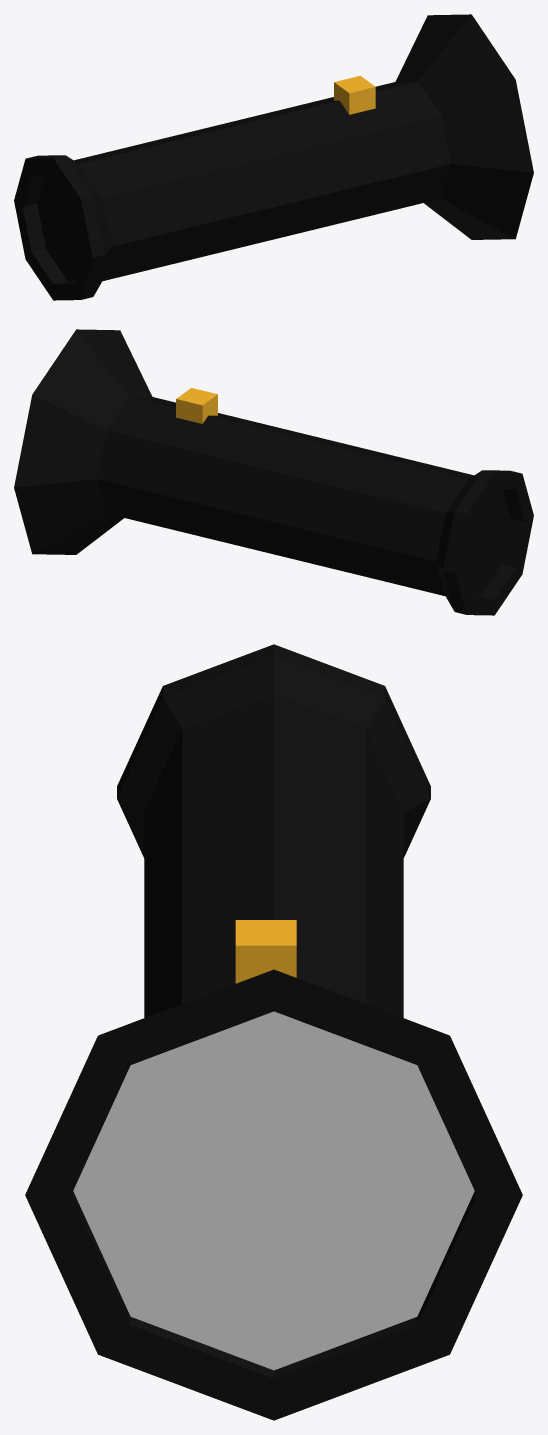
The model's file is FlashLight.fbx.
3 renders of one model, top to bottom at view 1: azimuth 30°, elevation 25°; view 2: azimuth 150°, elevation 25°; view 3: azimuth 270°, elevation 25°, orthographic. The views are drawn at different scales.
Parts seen in each view (by area): view 1: Cylinder, Cube; view 2: Cylinder, Cube; view 3: Cylinder, Cube.
Boxes of the visible parts, x1,y1,x2,y2 form: Cylinder: (14, 14, 533, 300); Cube: (334, 75, 375, 114); Cylinder: (14, 329, 533, 615); Cube: (176, 388, 217, 423); Cylinder: (25, 644, 522, 1420); Cube: (235, 920, 296, 983).
Bounding box in the file's own units: 408 × 210 × 210.
